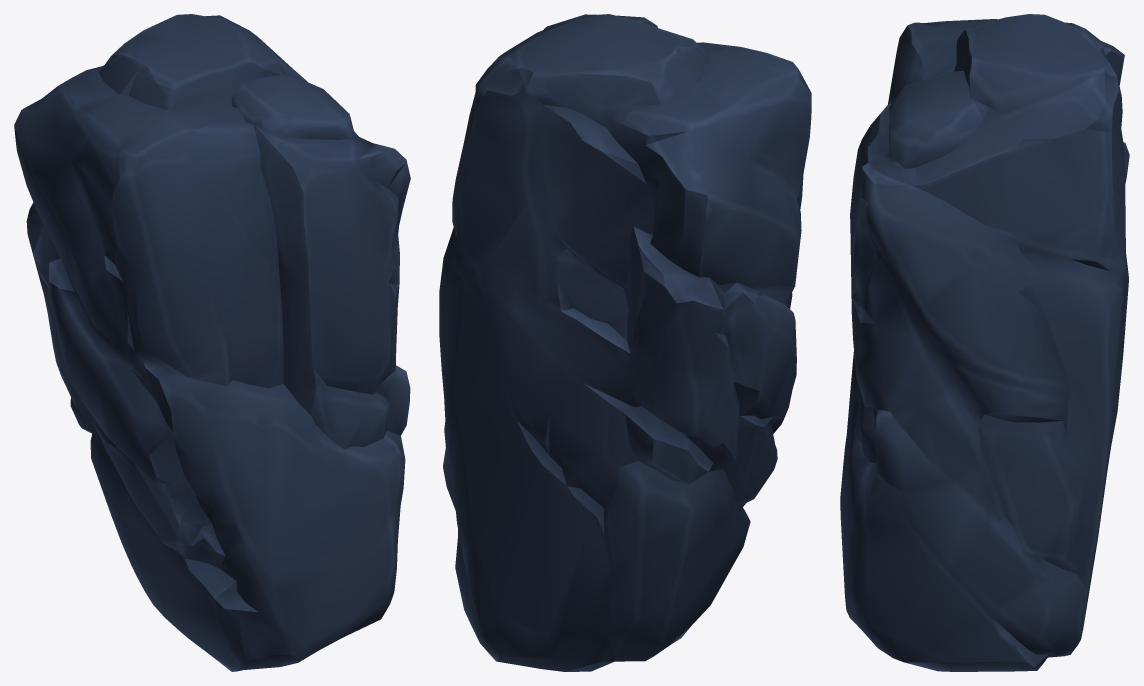
Rendered from CliffRock_B.fbx.
3 views of the same model, side by side, from view 1: azimuth 30°, elevation 25°; view 2: azimuth 150°, elevation 25°; view 3: azimuth 270°, elevation 25° (orthographic). The views are drawn at different scales.
Visible parts, largest first — view 1: SM_RockCliff_B; view 2: SM_RockCliff_B; view 3: SM_RockCliff_B.
Boxes of the visible parts, x1,y1,x2,y2 form: SM_RockCliff_B: (14, 14, 410, 671); SM_RockCliff_B: (439, 14, 811, 671); SM_RockCliff_B: (840, 14, 1129, 671).
Size of the model in its own units: 265 by 502 by 225.
